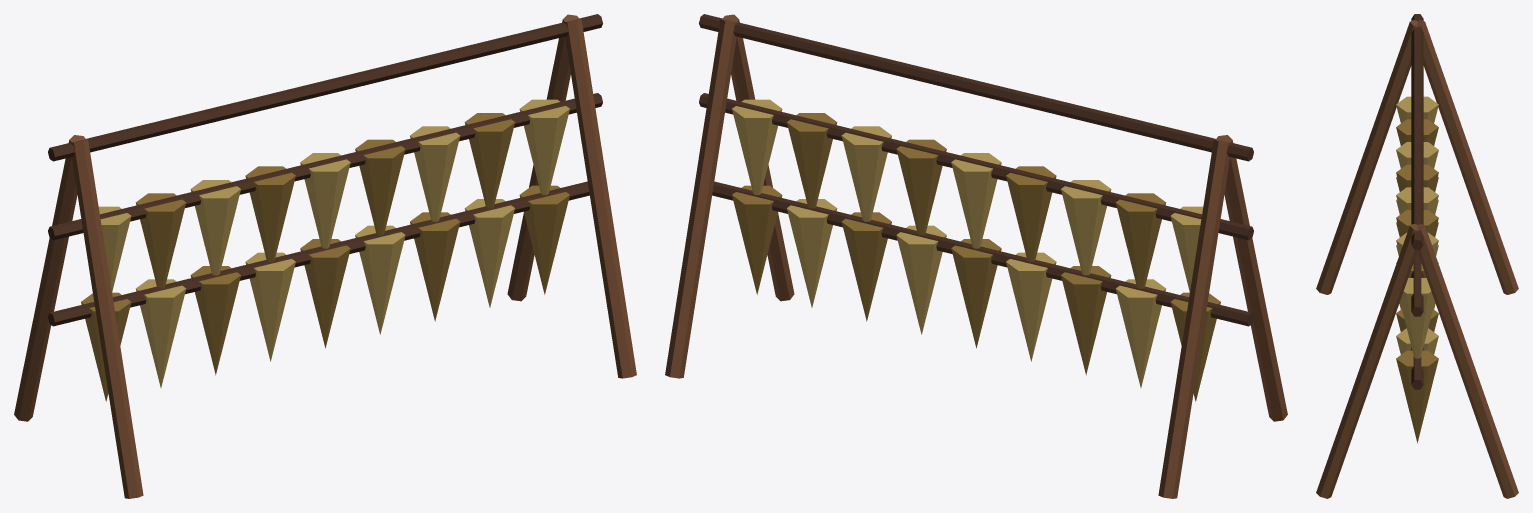
File: rice_rack.glb
The picture shows the model from 3 angles, left to right: view 1: azimuth 30°, elevation 25°; view 2: azimuth 150°, elevation 25°; view 3: azimuth 270°, elevation 25°; orthographic projection. The views are drawn at different scales.
Parts seen in each view (by area): view 1: RiceRack; view 2: RiceRack; view 3: RiceRack.
Boxes of the visible parts, x1,y1,x2,y2 form: RiceRack: (14, 14, 636, 498); RiceRack: (665, 14, 1287, 498); RiceRack: (1316, 14, 1518, 498).
Size of what is drawn, in the model's own units: 4 by 2.24 by 1.51.
